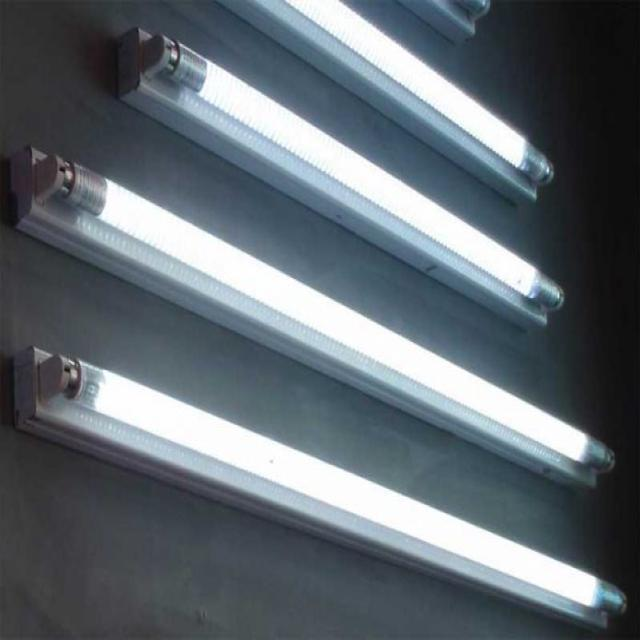tubelight_on: (10, 127, 617, 503), (29, 334, 633, 640), (123, 15, 570, 345), (210, 0, 561, 215), (393, 0, 489, 49)
